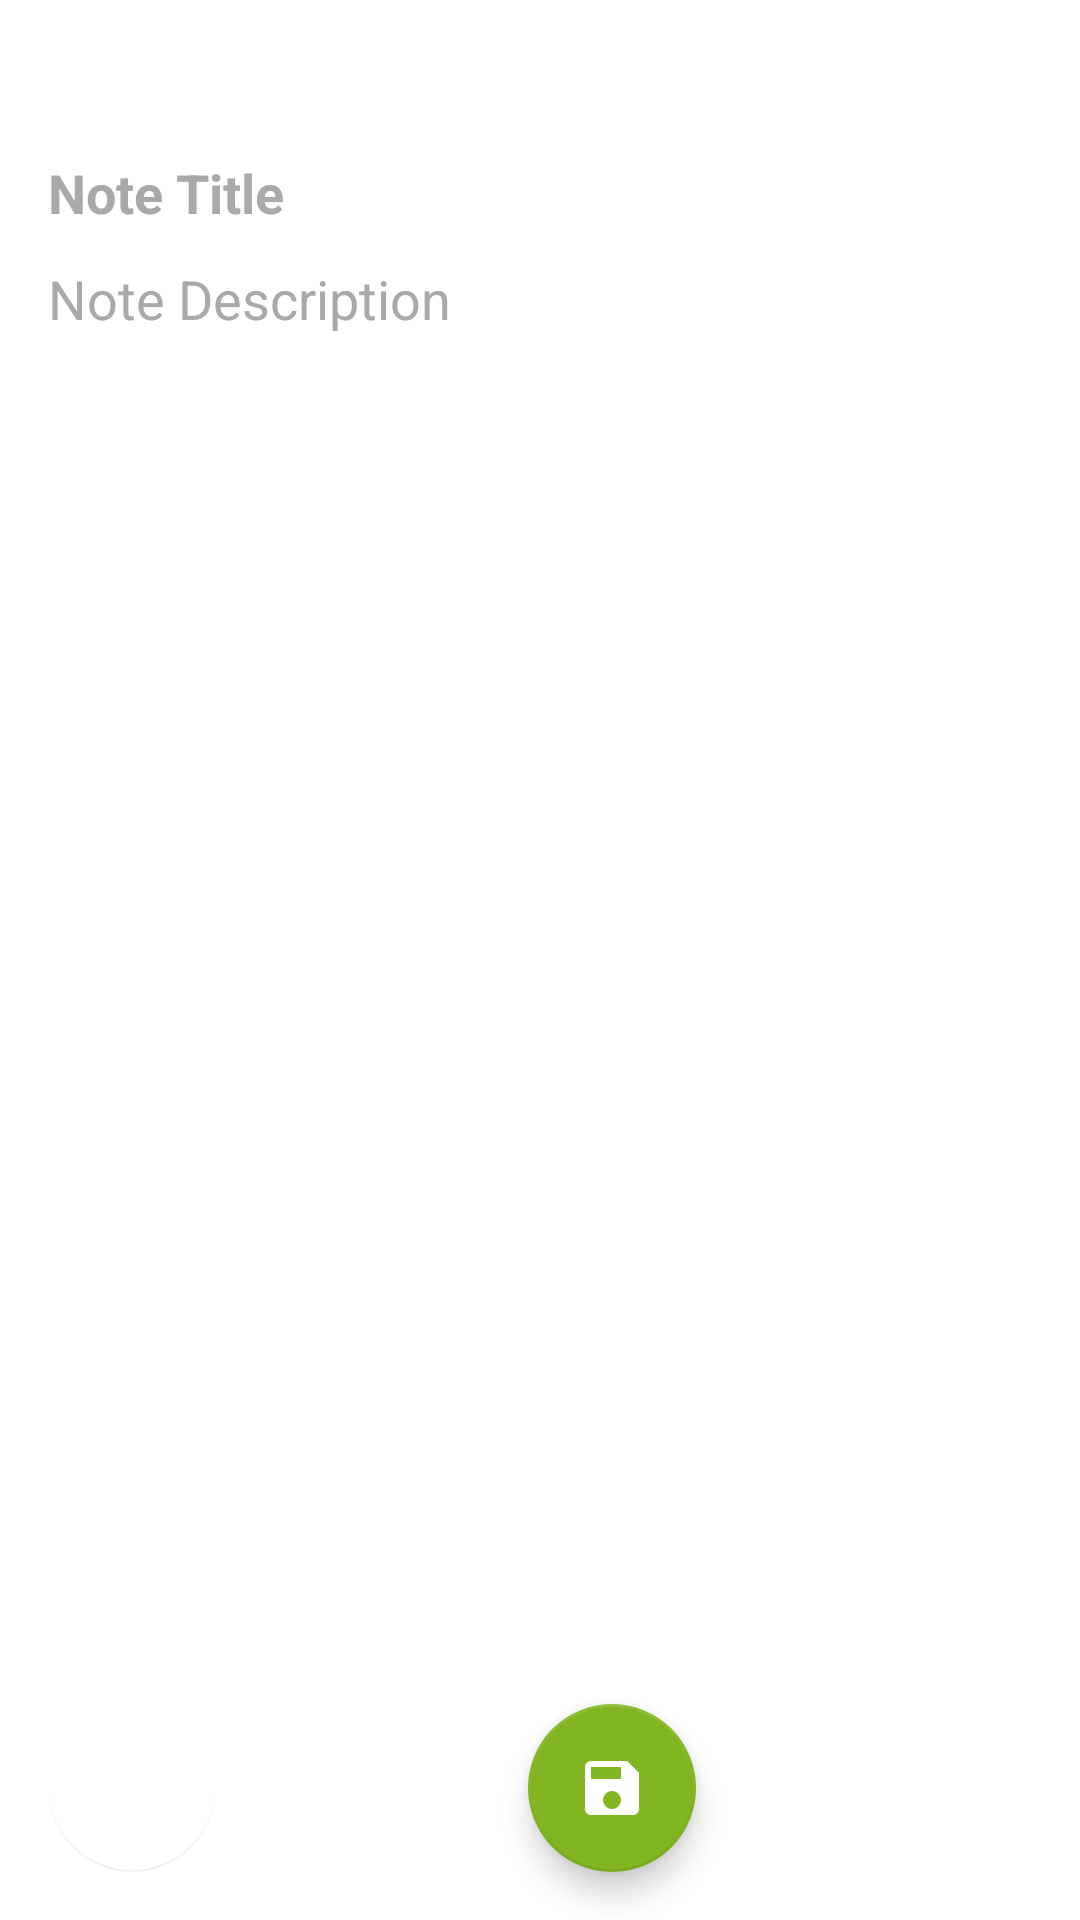

Named icons in this screenshot (1080*1920) and their bounding boxes, (x1, y1, x2, y2):
save: (528, 1704, 696, 1872)
